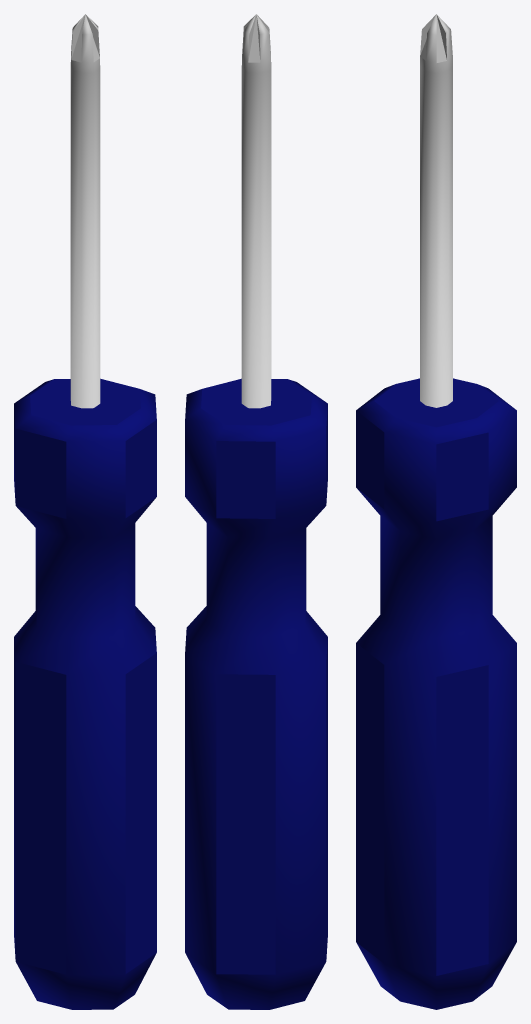
Rendered from screw_driver.obj.
The picture shows the model from 3 angles, left to right: view 1: azimuth 30°, elevation 25°; view 2: azimuth 150°, elevation 25°; view 3: azimuth 270°, elevation 25°; orthographic projection.
Visible parts, largest first — view 1: Cube_Cube.001; view 2: Cube_Cube.001; view 3: Cube_Cube.001.
Boxes of the visible parts, x1,y1,x2,y2 form: Cube_Cube.001: (14, 14, 156, 1009); Cube_Cube.001: (185, 14, 327, 1009); Cube_Cube.001: (356, 14, 516, 1009).
Bounding box in the file's own units: 0.376 × 2.51 × 0.376.
